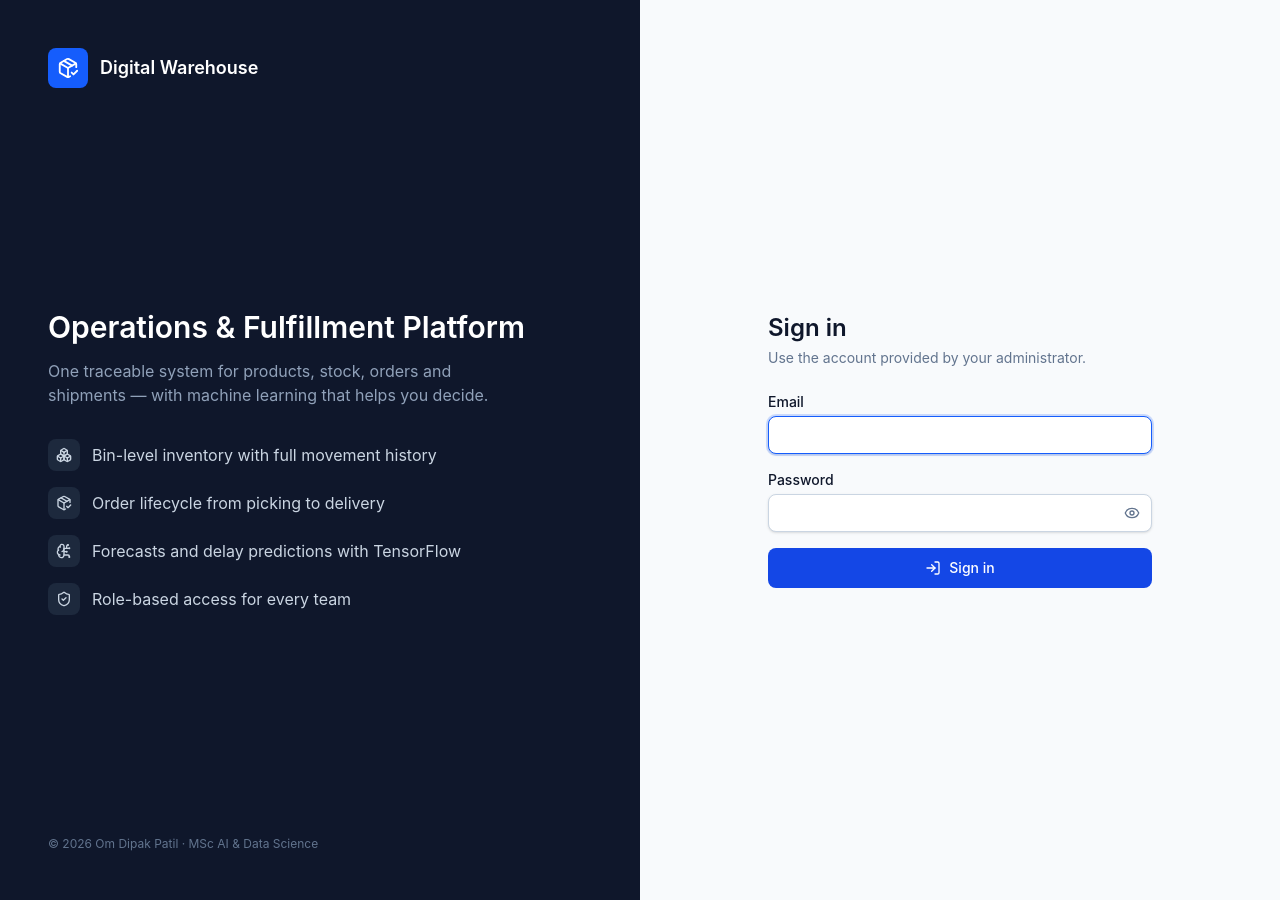
Test: logging in and out › returns to login when the session runs out while the app is open
Type "manager@example.com" into the field labelled "Email" at (960,435), box [768,416,1152,454]
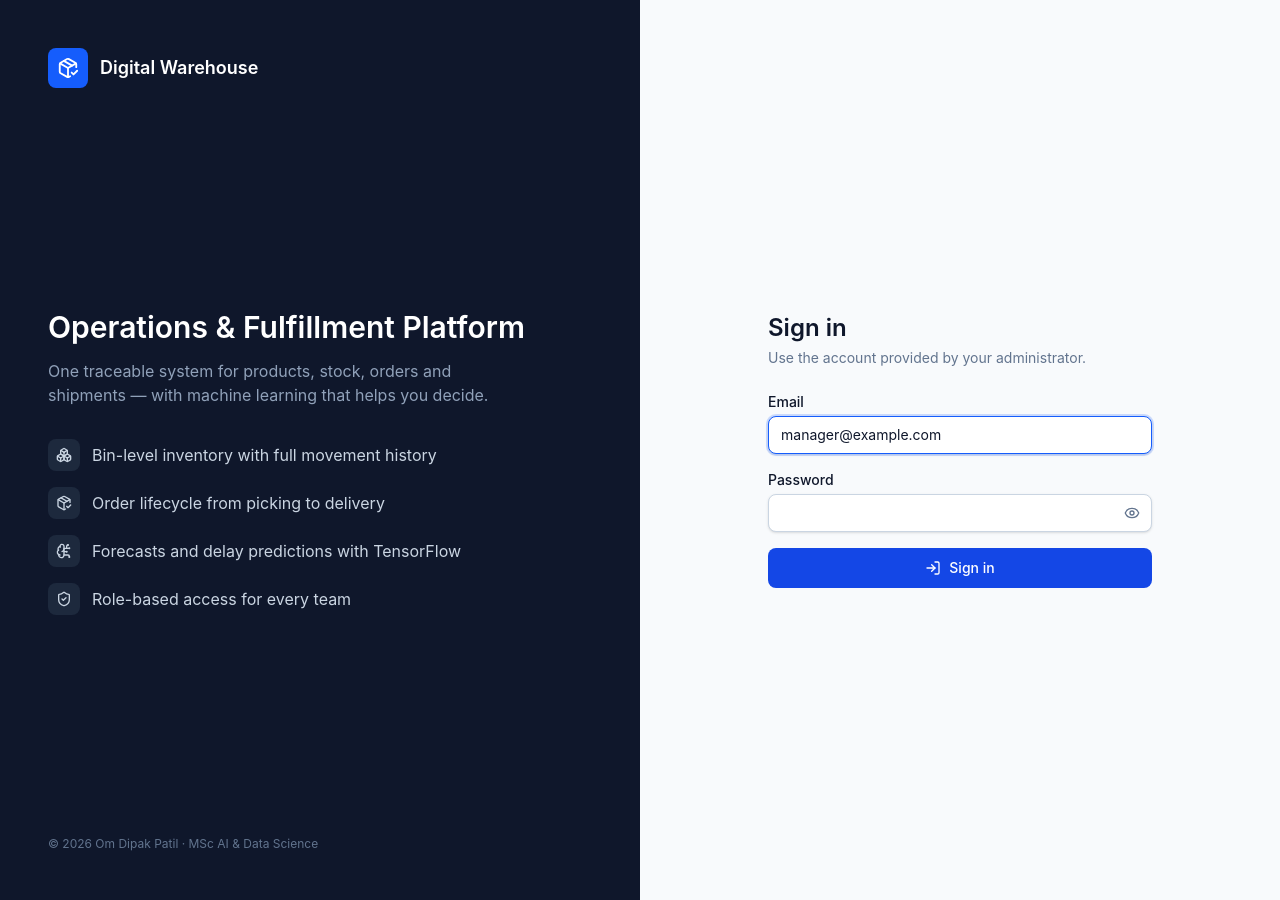
Type "Demo-pass-123" into the password field labelled "Password" at (960,513), box [768,494,1152,532]
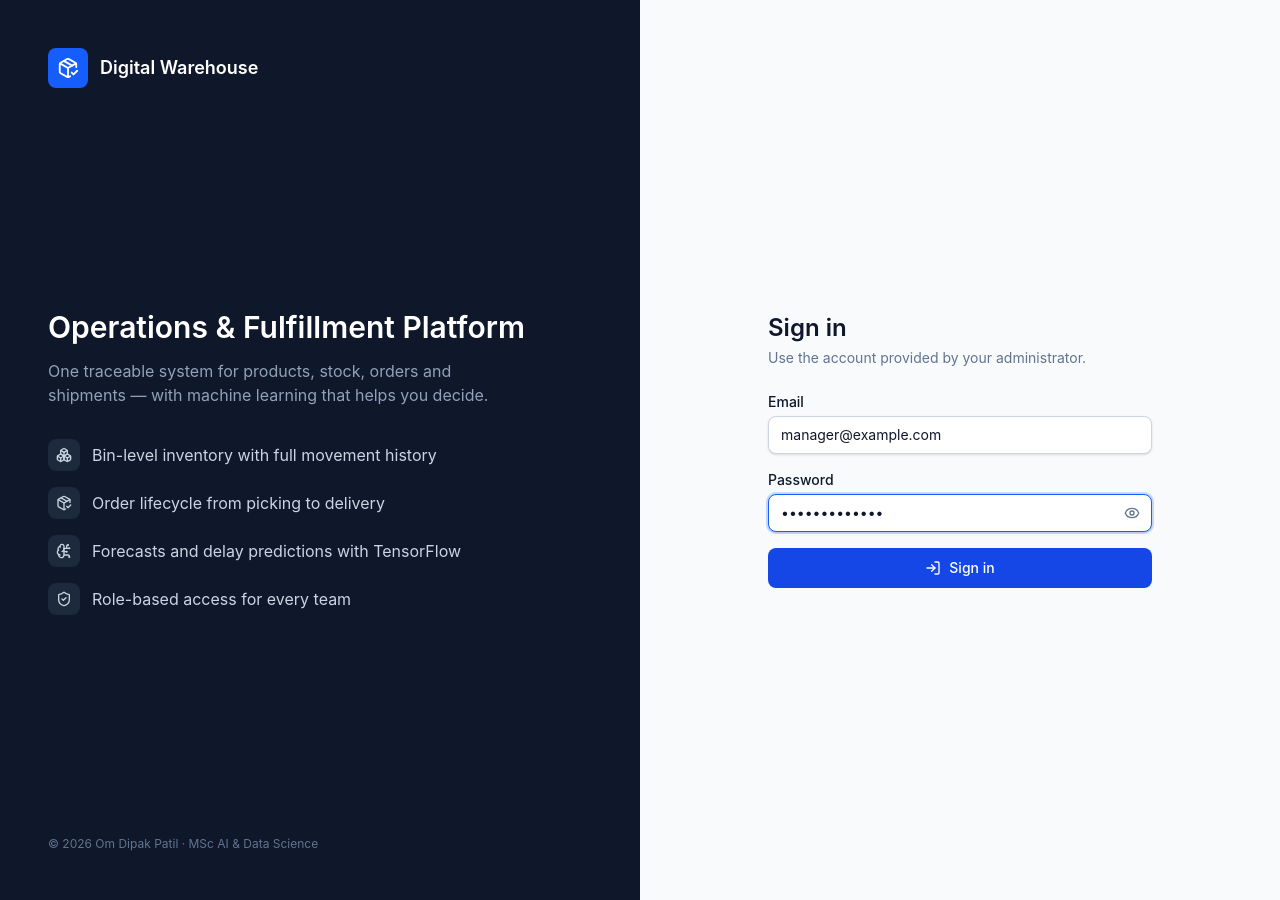
Click the button "Sign in" at (960,568), box [768,548,1152,588]
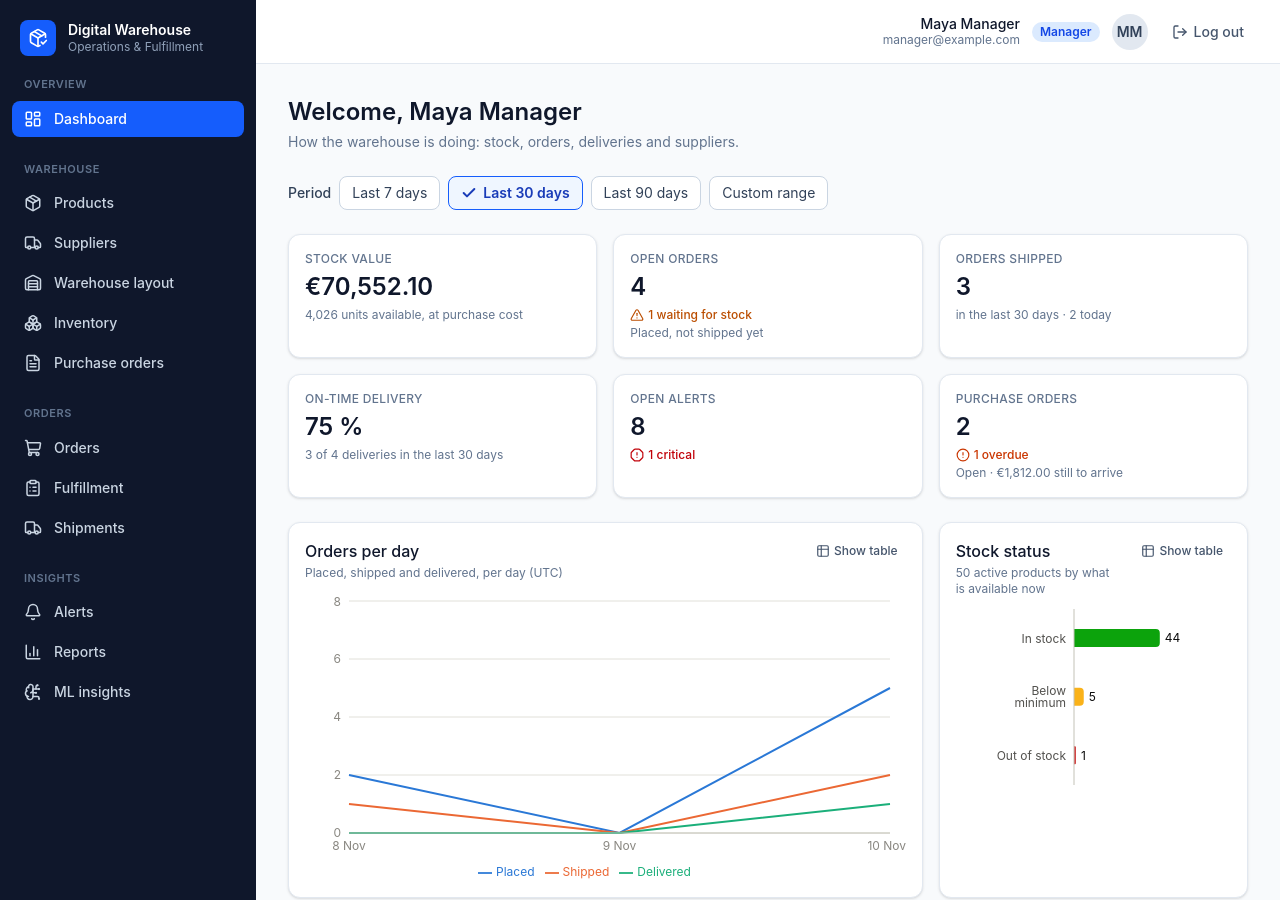
Now the heading "Welcome, Maya Manager" is shown, box [288,97,582,126]
Click the link "Products" at (69,203), box [24,194,114,212]
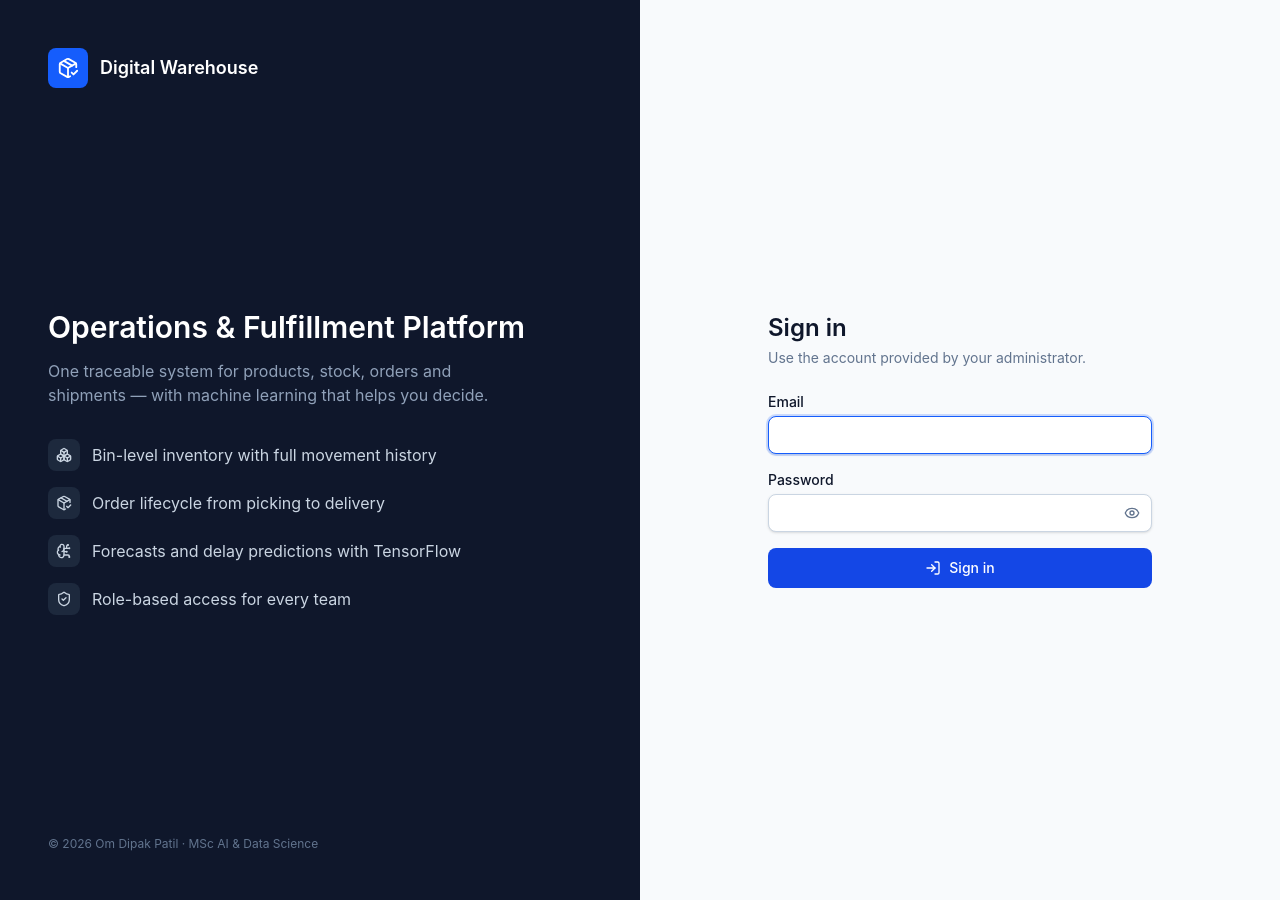
Now the heading "Sign in" is shown, box [768,313,847,342]
